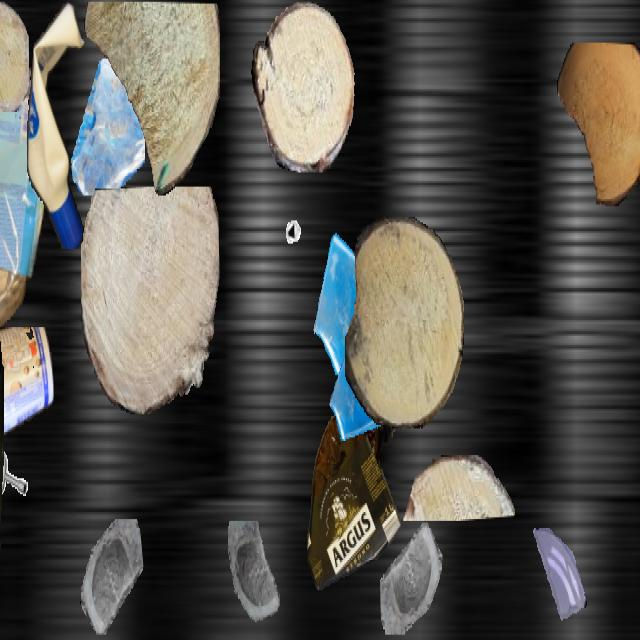glass: (311, 220, 403, 384), (68, 58, 144, 194), (223, 521, 289, 638), (79, 519, 143, 633), (329, 338, 393, 452), (380, 523, 442, 633), (530, 524, 588, 628)
metal: (0, 448, 34, 533), (283, 190, 321, 258)
plastic: (307, 398, 401, 590), (27, 2, 91, 247), (0, 62, 44, 372), (0, 327, 54, 452), (0, 226, 4, 638)
wood: (81, 187, 219, 414), (84, 2, 220, 194), (345, 217, 463, 427), (251, 2, 355, 172), (557, 43, 640, 206), (401, 455, 515, 519), (0, 2, 29, 112)
